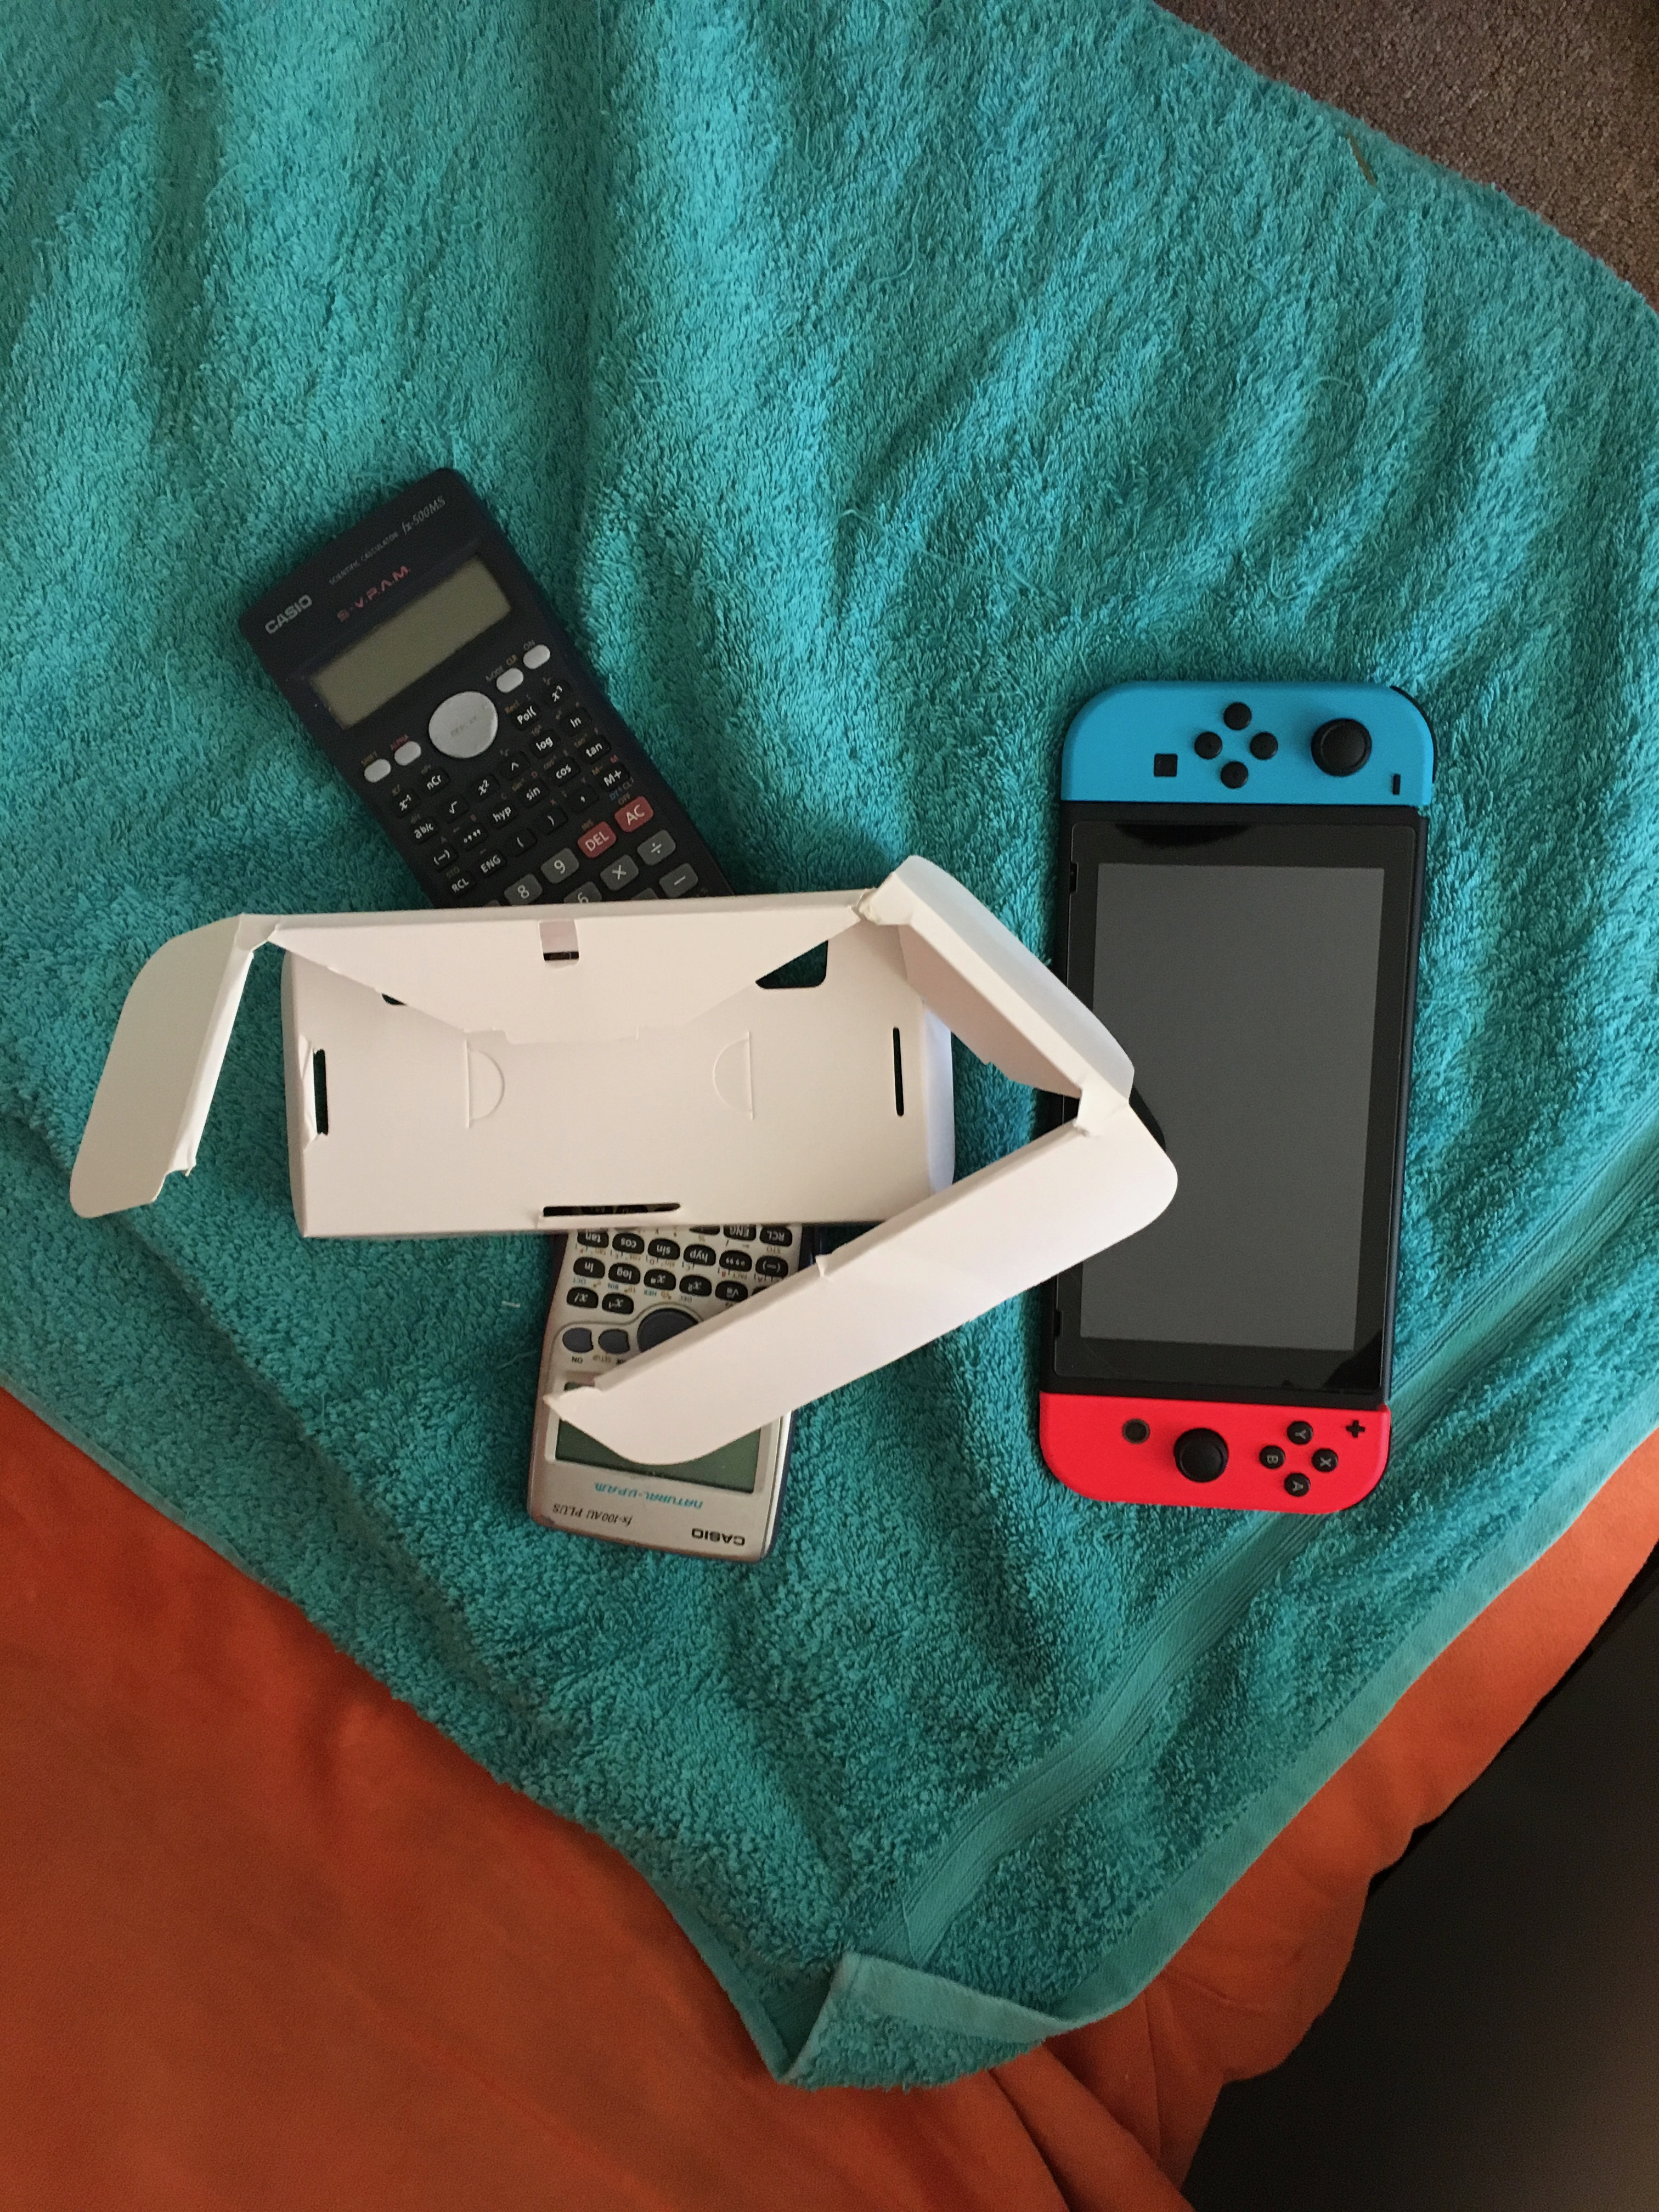Calculator: (230, 458, 746, 897), (511, 1217, 807, 1578)
NintendoSwitch: (1018, 667, 1441, 1521)
